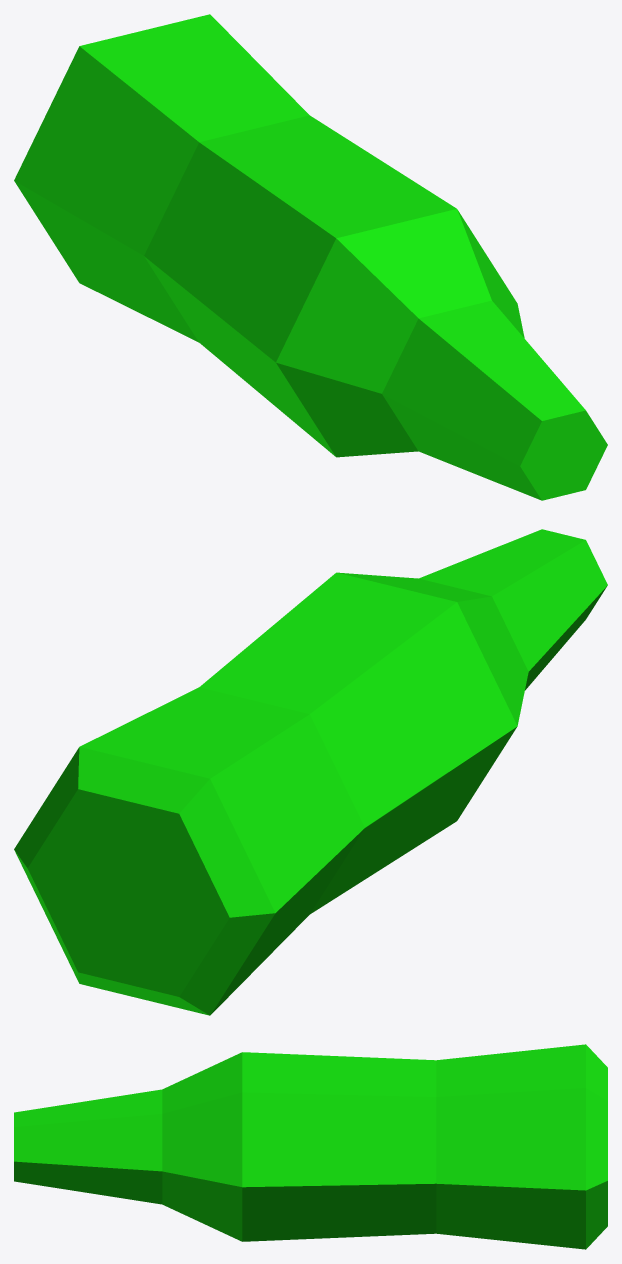
File: dressingBottle.obj
3 views of the same model, one above another, from view 1: azimuth 30°, elevation 25°; view 2: azimuth 150°, elevation 25°; view 3: azimuth 270°, elevation 25° (orthographic). The views are drawn at different scales.
Visible parts, largest first — view 1: sodaBottle.001; view 2: sodaBottle.001; view 3: sodaBottle.001.
Boxes of the visible parts, box(x1,y1,x2,y2) form: sodaBottle.001: box(14, 14, 607, 500); sodaBottle.001: box(14, 529, 607, 1015); sodaBottle.001: box(14, 1044, 607, 1249).
Size of the model in its own units: 0.0451 by 0.0391 by 0.1301.
